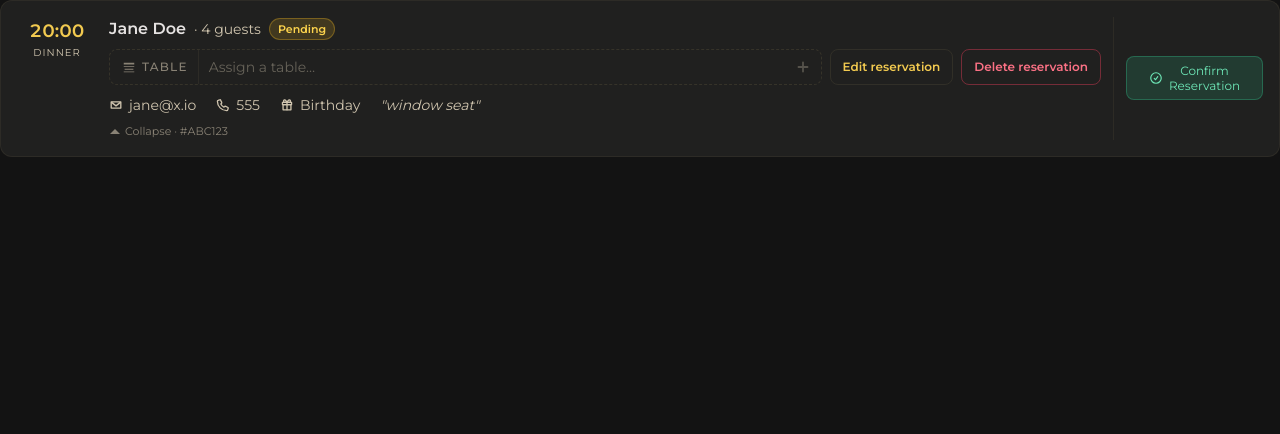
ReservationRow › cancels editing without sending a request
The width and height of the screenshot is (1280, 434).
# Details open by default
Click the button "Edit reservation": (891, 67) [830,49,953,85]
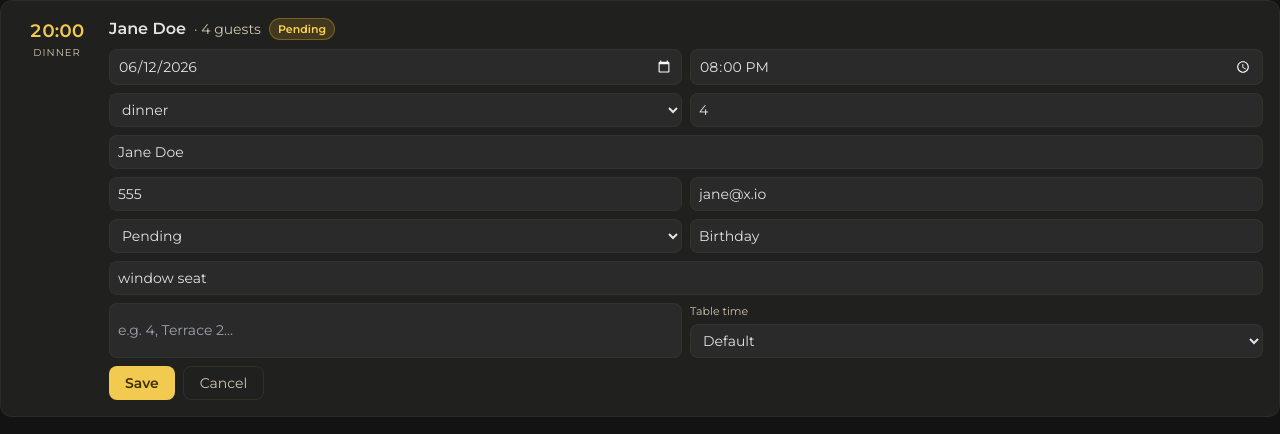
Click the button "Cancel": (224, 382) [183,366,264,400]
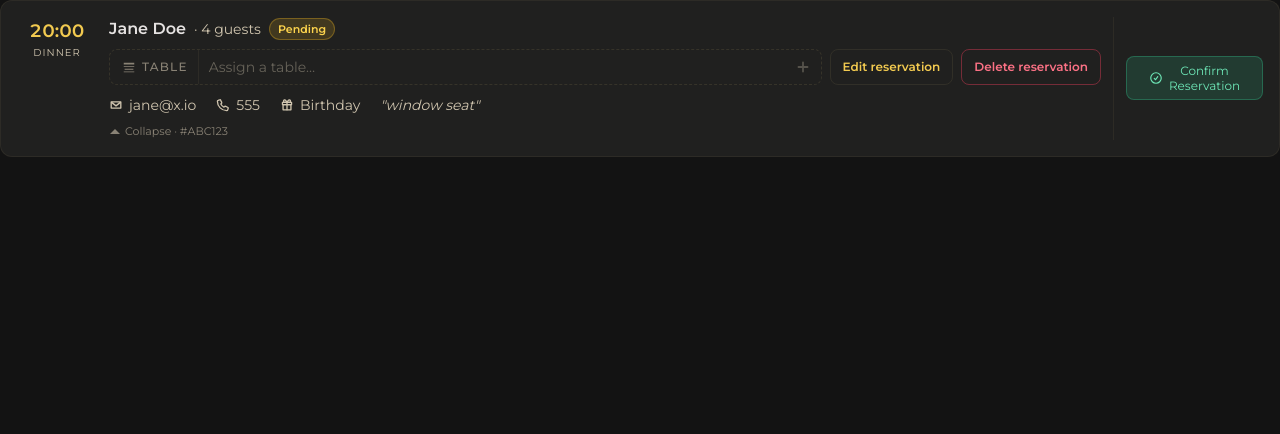
Now the button "Edit reservation" is shown, box [830,49,953,85]
